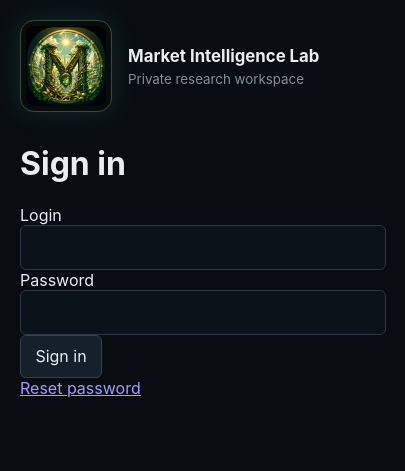
Test case: Sprint 5 secure multi-user workflows › shows an invalid login state without echoing credentials
Type "user@example.test" into the field labelled "Login" at {"x": 203, "y": 247}, box [20,225,386,270]
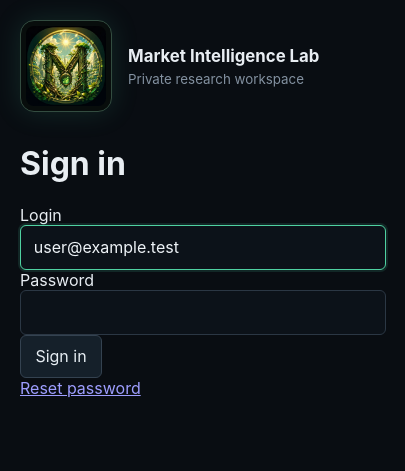
Type "never-display-this" into the password field labelled "Password" at {"x": 203, "y": 312}, box [20,290,386,335]
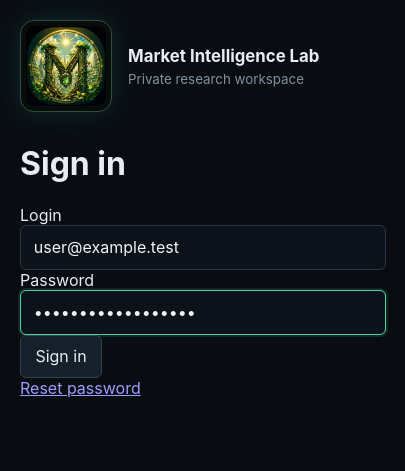
Click the button "Sign in" at {"x": 61, "y": 356}, box [20,335,102,378]
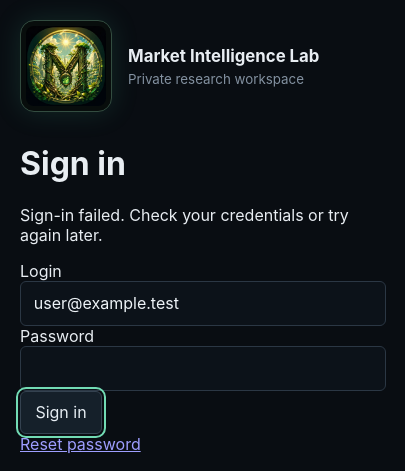
Expected: the message shows "Sign-in failed", [20,205,349,245]
